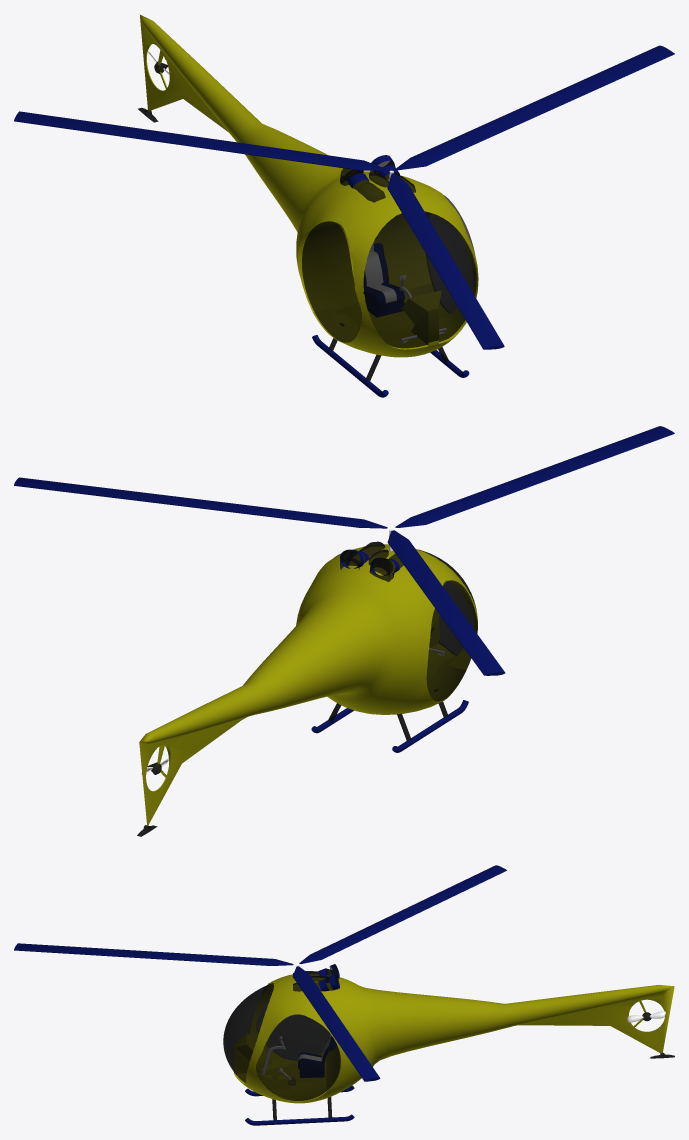
File: Helicoptere.glb
3 renders of one model, top to bottom at view 1: azimuth 30°, elevation 25°; view 2: azimuth 150°, elevation 25°; view 3: azimuth 270°, elevation 25°, orthographic. The views are drawn at different scales.
Parts seen in each view (by area): view 1: Helicio, 3 pales; view 2: Helicio, 3 pales; view 3: Helicio, 3 pales.
Part boxes in pixels (left/top/right/bottom): Helicio: left=138, top=14, right=478, bottom=397; 3 pales: left=14, top=45, right=674, bottom=349; Helicio: left=137, top=541, right=477, bottom=836; 3 pales: left=14, top=426, right=674, bottom=675; Helicio: left=223, top=964, right=674, bottom=1125; 3 pales: left=14, top=865, right=506, bottom=1081.
Size of the model in its own units: 9.6 by 3.36 by 12.83.
8 materials, 1 textured.
